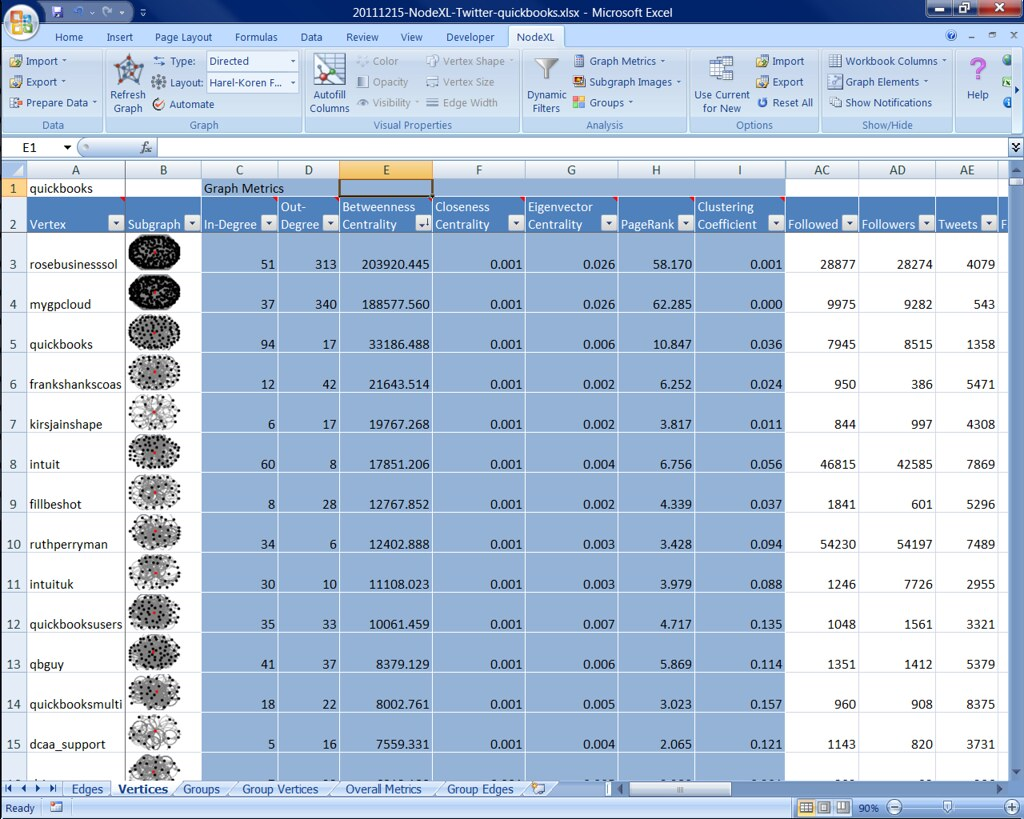button: (690, 49, 751, 116), (523, 52, 569, 117), (821, 70, 955, 92), (822, 49, 953, 71), (308, 52, 351, 114), (821, 94, 954, 114), (106, 52, 148, 114), (958, 51, 999, 114), (569, 71, 685, 91), (2, 93, 101, 114), (423, 93, 520, 114), (422, 51, 518, 72), (2, 1, 47, 45), (568, 52, 670, 71), (422, 72, 518, 92), (144, 24, 223, 47), (569, 90, 639, 115), (435, 24, 508, 47), (629, 782, 731, 798), (1, 70, 75, 92), (751, 94, 820, 117), (2, 49, 74, 71), (351, 71, 422, 93), (336, 781, 440, 796), (223, 23, 286, 47), (750, 49, 818, 71), (351, 93, 422, 114), (751, 71, 820, 92), (234, 782, 336, 796), (350, 52, 421, 71), (508, 24, 566, 47), (439, 782, 528, 796), (151, 96, 219, 114), (337, 23, 390, 46), (286, 23, 336, 47), (47, 24, 98, 45), (1012, 50, 1024, 136), (110, 782, 181, 796), (390, 24, 435, 46), (99, 25, 144, 46), (98, 1, 133, 23), (180, 782, 234, 796), (980, 1, 1024, 18), (64, 1, 98, 22), (64, 781, 111, 796), (924, 1, 954, 18), (1002, 796, 1024, 819), (981, 24, 1002, 46), (1001, 25, 1024, 45), (884, 797, 905, 818), (59, 137, 79, 159), (961, 23, 980, 46), (527, 782, 556, 797), (954, 1, 979, 18), (814, 798, 834, 819), (940, 25, 961, 45), (916, 214, 938, 233), (796, 798, 815, 819), (834, 798, 853, 819), (507, 214, 526, 233), (599, 214, 618, 233), (980, 214, 999, 233), (841, 213, 859, 233), (47, 2, 65, 22), (135, 1, 151, 23), (259, 214, 278, 232), (767, 214, 786, 232), (44, 781, 64, 798), (184, 213, 201, 232), (677, 214, 694, 233), (609, 782, 629, 798), (1009, 137, 1024, 158), (415, 214, 432, 232), (1011, 760, 1024, 781), (323, 214, 339, 231), (1008, 159, 1024, 176), (108, 214, 123, 232), (30, 781, 44, 798), (991, 781, 1005, 796), (16, 781, 29, 796), (3, 781, 15, 796), (941, 800, 954, 812), (1009, 179, 1024, 187)
common: (1, 799, 42, 819), (856, 801, 883, 817)
container: (1, 49, 1024, 137), (47, 1, 1023, 24), (77, 136, 1009, 160), (1, 799, 1024, 819), (305, 49, 522, 134), (105, 48, 304, 135), (523, 49, 690, 134), (47, 23, 567, 49), (821, 50, 956, 137), (690, 50, 822, 135), (1007, 157, 1024, 780), (1, 48, 106, 135), (64, 781, 559, 797), (608, 782, 1008, 798), (956, 52, 1009, 136), (853, 798, 1024, 819), (48, 1, 151, 23), (938, 23, 1024, 47), (924, 1, 1024, 19), (796, 798, 854, 819), (1, 781, 64, 797)
header: (349, 3, 678, 23), (305, 115, 522, 133), (104, 116, 301, 133), (522, 116, 688, 134), (821, 117, 954, 136), (688, 116, 822, 133), (3, 116, 104, 134)
image: (125, 672, 186, 713), (126, 473, 185, 514), (125, 353, 185, 393), (125, 514, 185, 554), (126, 272, 184, 313), (126, 394, 185, 434), (126, 633, 185, 673), (125, 553, 185, 592), (125, 593, 185, 632), (124, 314, 185, 352), (126, 434, 185, 473), (125, 714, 186, 751), (128, 236, 182, 271), (126, 752, 185, 780), (44, 799, 71, 819)
table: (1, 159, 1009, 783)
table-cell: (26, 273, 125, 314), (25, 233, 126, 273), (28, 473, 126, 514), (27, 632, 126, 672), (28, 353, 126, 393), (27, 593, 125, 633), (27, 713, 125, 753), (433, 272, 526, 314), (526, 552, 619, 594), (431, 473, 526, 514), (28, 433, 125, 473), (28, 672, 125, 712), (341, 272, 433, 314), (27, 314, 126, 353), (28, 394, 126, 433), (28, 515, 126, 554), (432, 592, 525, 633), (28, 554, 125, 593), (526, 392, 618, 433), (526, 632, 618, 673), (340, 353, 434, 393), (432, 633, 526, 673), (339, 672, 433, 712), (339, 712, 433, 752), (341, 473, 432, 514), (432, 233, 525, 273), (525, 233, 618, 273), (340, 393, 433, 433), (433, 393, 526, 433), (525, 474, 618, 514), (433, 672, 526, 712), (433, 712, 526, 752), (341, 313, 433, 353), (434, 352, 526, 392), (526, 353, 618, 393), (526, 712, 618, 752), (339, 234, 433, 273), (525, 274, 619, 313), (432, 434, 526, 473), (341, 553, 432, 593), (525, 673, 618, 712), (695, 473, 785, 513), (342, 593, 432, 633), (696, 633, 786, 673), (526, 433, 618, 472), (340, 633, 432, 672), (432, 514, 526, 552), (432, 554, 526, 592), (696, 393, 785, 433), (696, 433, 785, 473), (694, 233, 785, 272), (694, 273, 785, 312), (434, 314, 525, 353), (341, 433, 432, 472), (695, 713, 786, 752), (525, 314, 618, 352), (695, 314, 785, 353), (695, 354, 785, 393), (695, 514, 785, 553), (695, 594, 785, 633), (526, 514, 618, 552), (526, 594, 618, 632), (696, 554, 785, 593), (26, 198, 125, 233), (342, 514, 432, 552), (432, 197, 526, 233), (696, 673, 785, 711), (339, 197, 433, 232), (694, 197, 785, 233), (125, 272, 203, 314), (525, 198, 618, 233), (203, 272, 280, 314), (125, 672, 203, 713), (125, 473, 202, 514), (201, 473, 278, 514), (859, 313, 937, 353), (201, 353, 279, 393), (618, 433, 696, 473), (202, 553, 280, 593), (201, 593, 279, 633), (859, 632, 937, 672), (618, 673, 696, 713), (785, 553, 861, 594), (859, 272, 936, 312), (125, 353, 202, 393), (618, 393, 695, 433), (125, 553, 202, 593), (860, 553, 937, 593), (125, 632, 202, 672), (785, 473, 860, 514), (861, 473, 936, 514), (200, 394, 278, 433), (200, 433, 278, 472), (201, 514, 279, 553), (618, 233, 694, 273), (859, 233, 935, 273), (619, 353, 695, 393), (860, 393, 936, 433), (618, 474, 694, 514), (785, 672, 861, 712), (861, 672, 937, 712), (202, 713, 278, 753), (202, 233, 279, 272), (618, 274, 695, 313), (859, 353, 936, 392), (618, 554, 695, 593), (860, 593, 937, 632), (618, 633, 695, 672), (618, 713, 695, 752), (127, 233, 202, 273), (861, 433, 936, 473), (124, 315, 202, 353), (203, 314, 279, 353), (619, 314, 695, 353), (125, 394, 201, 433), (125, 514, 201, 553), (619, 593, 695, 632), (202, 633, 278, 672), (202, 673, 278, 712), (126, 713, 202, 752), (861, 712, 937, 751), (786, 393, 860, 433), (784, 273, 859, 312), (785, 433, 860, 472), (126, 593, 201, 632), (125, 433, 201, 471), (619, 514, 695, 552), (861, 515, 937, 553), (859, 196, 937, 233), (785, 314, 859, 353), (786, 712, 860, 751), (786, 633, 859, 672), (785, 234, 859, 272), (785, 354, 859, 392), (786, 514, 860, 552), (786, 594, 860, 632), (201, 197, 279, 233), (27, 752, 127, 780), (125, 196, 201, 232), (785, 197, 859, 233), (618, 197, 694, 232), (278, 272, 341, 314), (937, 671, 1000, 713), (339, 752, 433, 780), (937, 473, 999, 515), (434, 752, 527, 780), (278, 473, 341, 514), (277, 712, 340, 753), (527, 752, 619, 780), (278, 553, 342, 593), (935, 233, 998, 273), (936, 434, 999, 474), (278, 593, 341, 633), (697, 752, 787, 780), (937, 393, 998, 434), (277, 673, 341, 712), (278, 433, 341, 472), (936, 514, 999, 553), (278, 633, 341, 672), (937, 713, 1000, 752), (279, 233, 340, 273), (937, 313, 998, 353), (937, 353, 998, 393), (279, 393, 340, 433), (936, 273, 998, 312), (279, 354, 341, 393), (937, 554, 999, 593), (937, 594, 1000, 632), (279, 314, 340, 353), (280, 514, 341, 553), (938, 632, 999, 671), (937, 195, 999, 233), (618, 752, 695, 780), (278, 198, 339, 233), (126, 752, 202, 780), (785, 752, 861, 780), (861, 752, 937, 780), (26, 178, 125, 198), (202, 754, 278, 780), (432, 159, 525, 180), (340, 159, 432, 180), (694, 159, 786, 180), (27, 161, 125, 180), (936, 752, 1001, 780), (526, 160, 618, 179), (525, 179, 618, 197), (277, 753, 339, 780), (339, 179, 432, 196), (432, 179, 525, 196), (694, 179, 785, 196), (618, 160, 694, 180), (786, 159, 859, 179), (126, 161, 202, 180), (202, 160, 278, 179), (860, 160, 936, 179), (125, 179, 202, 197), (618, 179, 694, 197), (859, 179, 935, 197), (785, 179, 859, 196), (202, 179, 278, 195), (935, 160, 999, 179), (279, 160, 339, 179), (278, 178, 340, 196), (936, 179, 998, 197), (1, 272, 28, 313), (1, 473, 28, 513), (1, 633, 28, 673), (1, 514, 28, 553), (1, 674, 28, 713), (1, 313, 27, 353), (1, 592, 27, 632), (1, 354, 27, 393), (1, 394, 27, 433), (1, 553, 27, 592), (1, 233, 26, 273), (1, 433, 26, 472), (3, 714, 28, 752), (1, 199, 27, 233), (3, 753, 27, 781), (1, 159, 28, 179), (1, 179, 28, 198)
table-row: (2, 472, 1008, 515), (1, 353, 1010, 395), (1, 434, 1010, 475), (1, 633, 1010, 674), (1, 233, 1009, 274), (1, 273, 1009, 314), (1, 674, 1012, 714), (1, 314, 1010, 354), (1, 395, 1009, 435), (1, 554, 1008, 594), (1, 714, 1012, 753), (1, 595, 1009, 634), (1, 515, 1008, 554), (2, 199, 1008, 234), (1, 752, 1011, 782), (1, 159, 1010, 180), (1, 178, 1010, 196)
text-input: (157, 138, 1007, 158), (2, 139, 60, 157)
